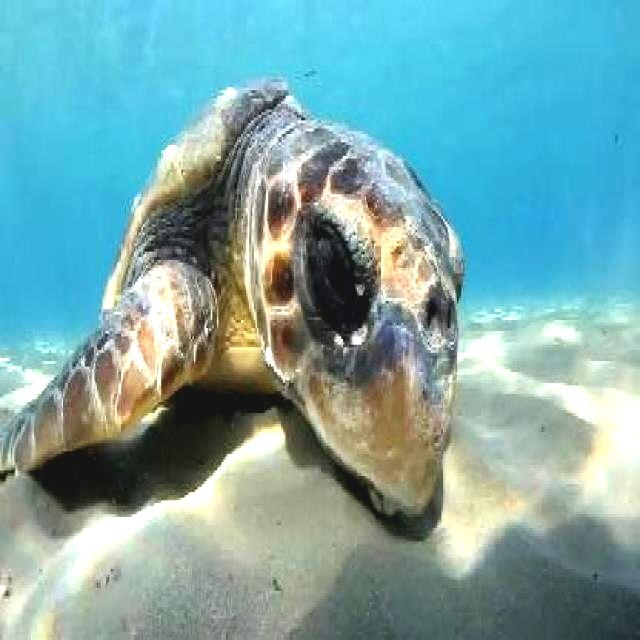Sea turtle: (0, 70, 468, 548)
